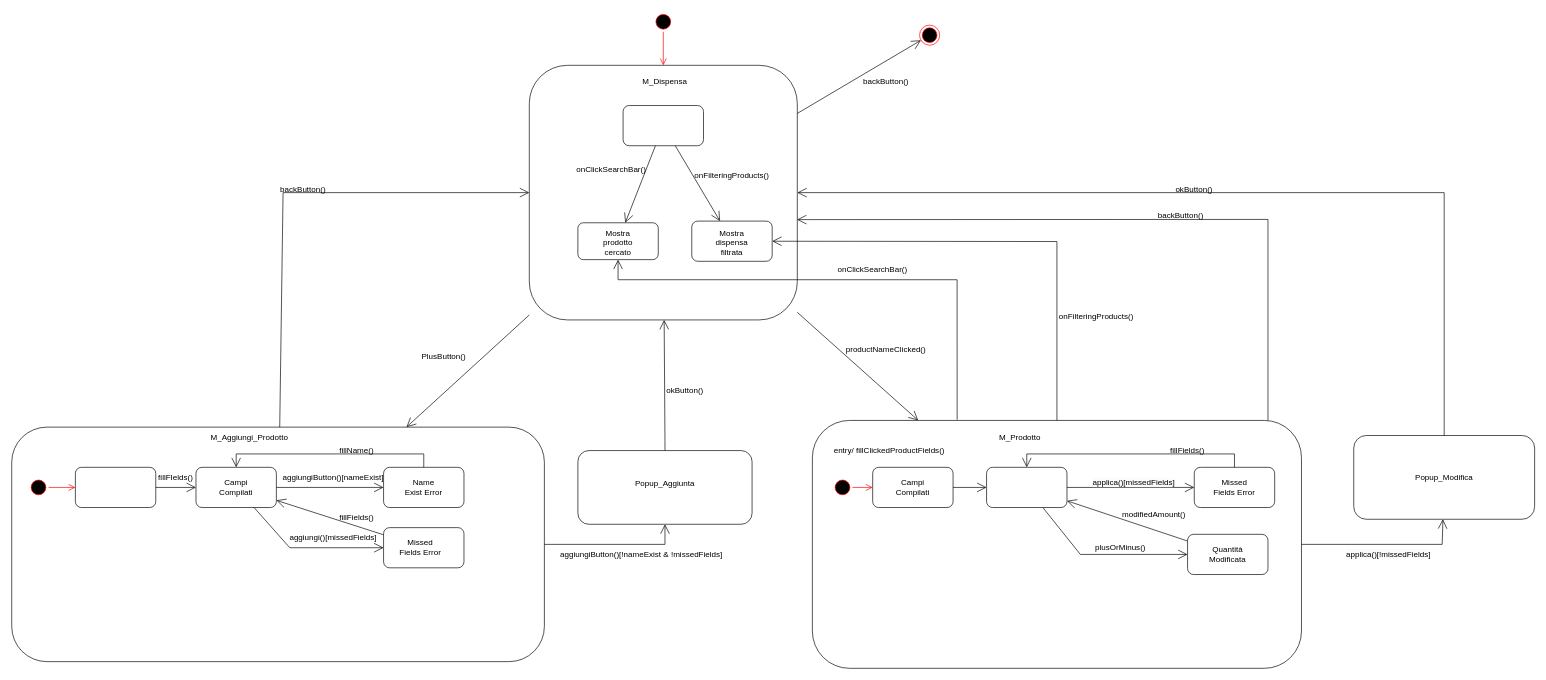
This 1546x680 diagram has some shape labels left out. The shapes that lost their labels are listed below. From the top down, each one's centre as x and y in pixels, then its label:
At (663,125): "Mostra Dispensa".
At (115,487): "Campi Vuoti".
At (1026,487): "Campi Modificati".
